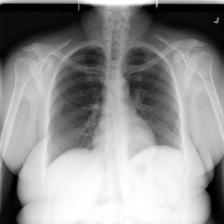normal: (43, 36, 190, 177)
